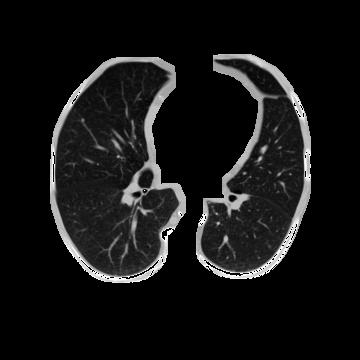PN: (80, 118, 84, 122)
